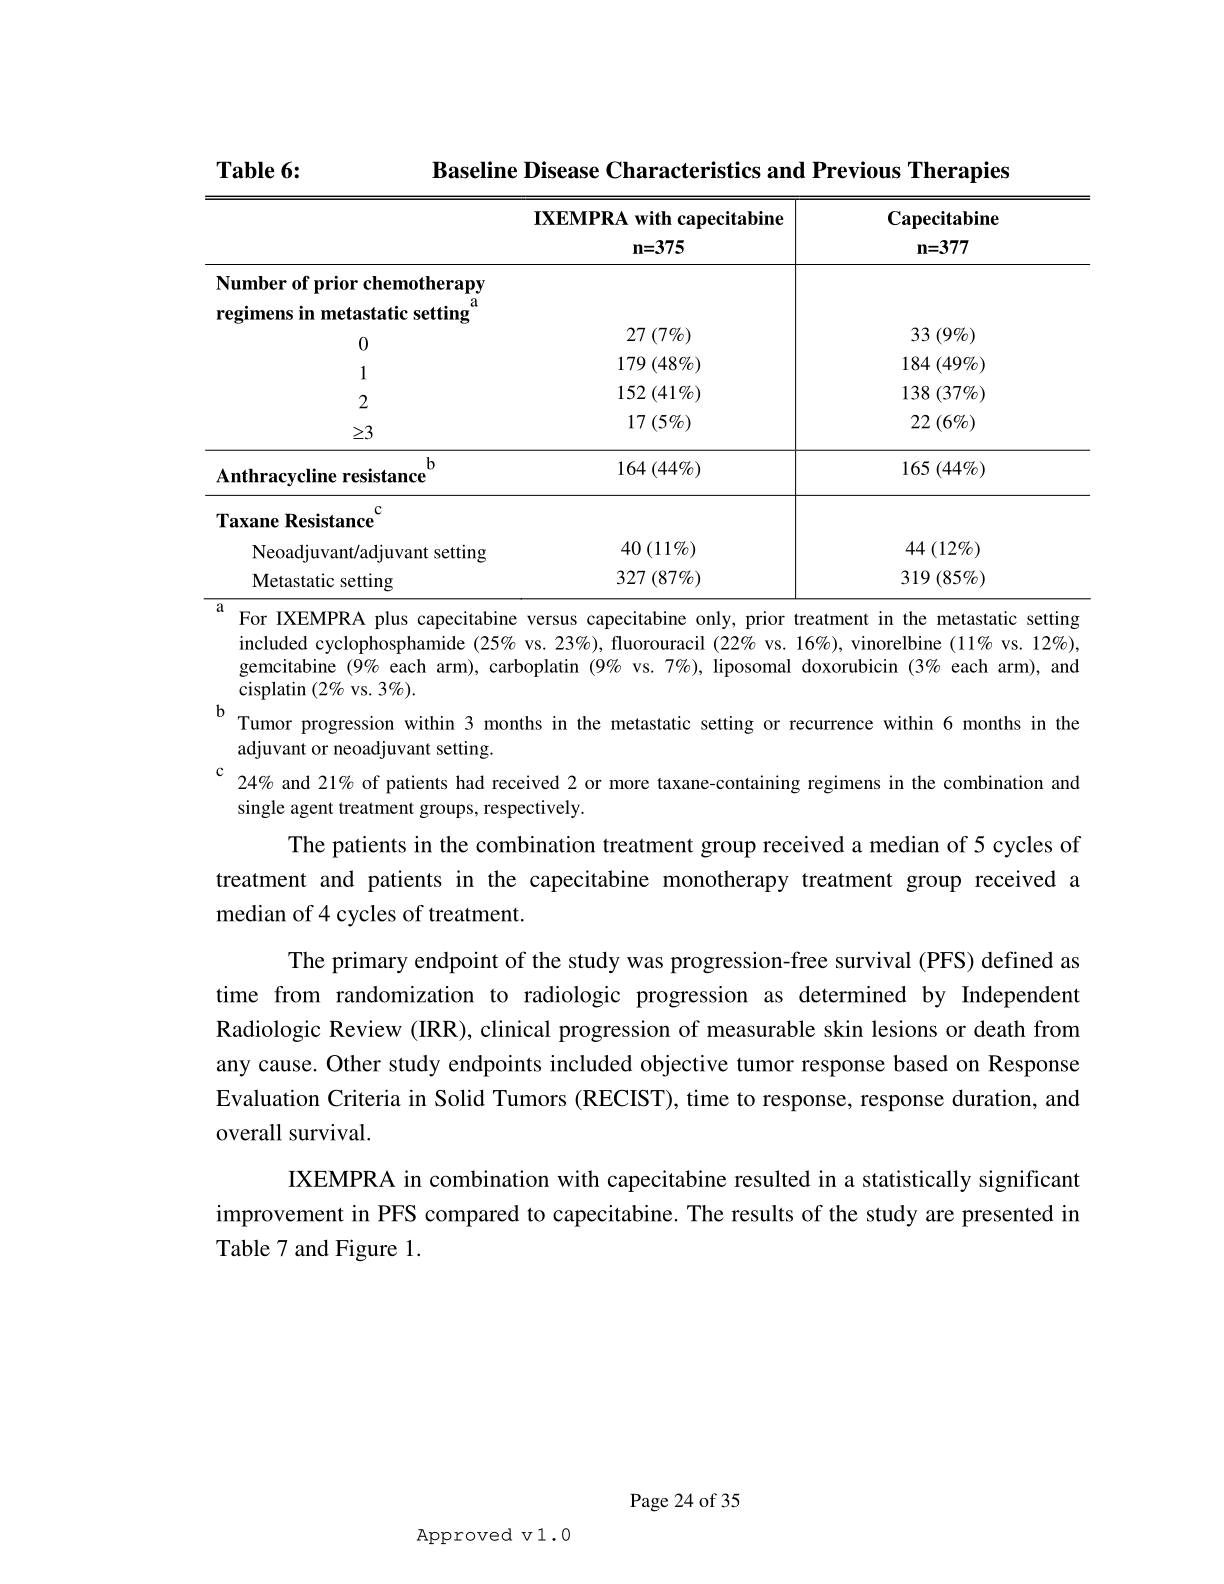partial_lined: (201, 194, 1092, 600)
